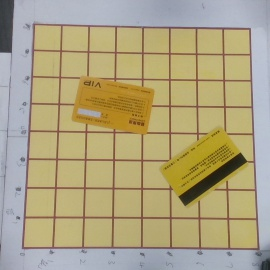card: (161, 125, 249, 210), (72, 74, 156, 139)
